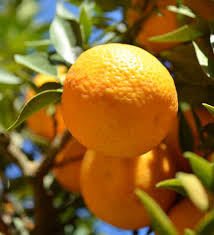orange: (57, 47, 182, 153), (78, 138, 179, 229)
